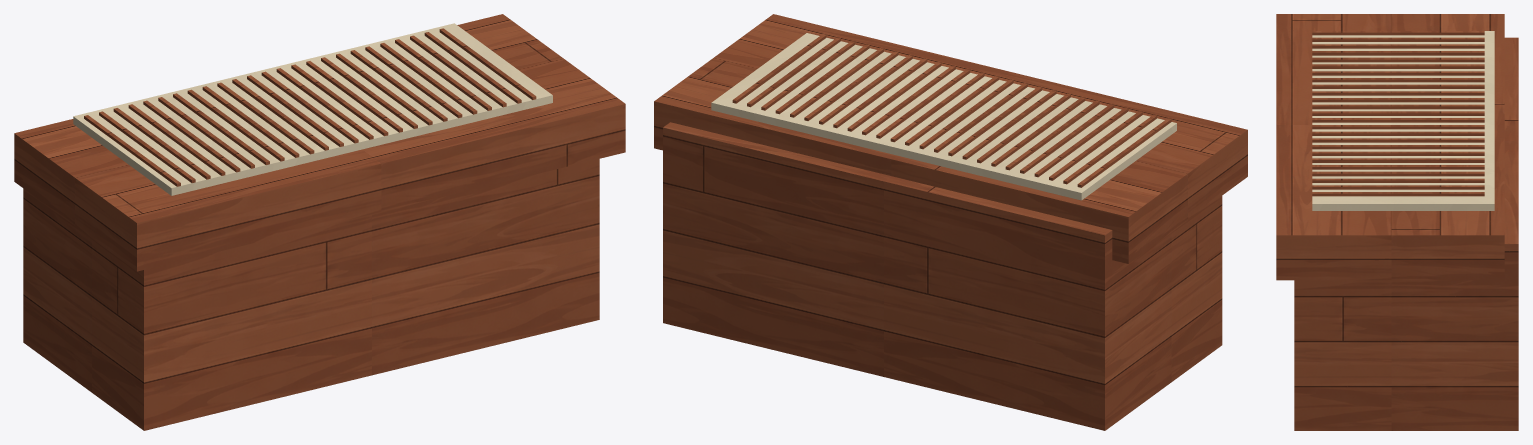
The model's file is SM_Theater_Organ_Console.fbx.
The picture shows the model from 3 angles, left to right: view 1: azimuth 30°, elevation 25°; view 2: azimuth 150°, elevation 25°; view 3: azimuth 270°, elevation 25°; orthographic projection. The views are drawn at different scales.
Visible parts, largest first — view 1: SM_Theater_Organ_Console_LOD0; view 2: SM_Theater_Organ_Console_LOD0; view 3: SM_Theater_Organ_Console_LOD0.
Boxes of the visible parts, bbox=[...] form: SM_Theater_Organ_Console_LOD0: bbox=[14, 14, 625, 430]; SM_Theater_Organ_Console_LOD0: bbox=[654, 14, 1247, 430]; SM_Theater_Organ_Console_LOD0: bbox=[1276, 14, 1518, 430].
Size of what is drawn, in the model's own units: 2.64 by 1.19 by 1.22.
